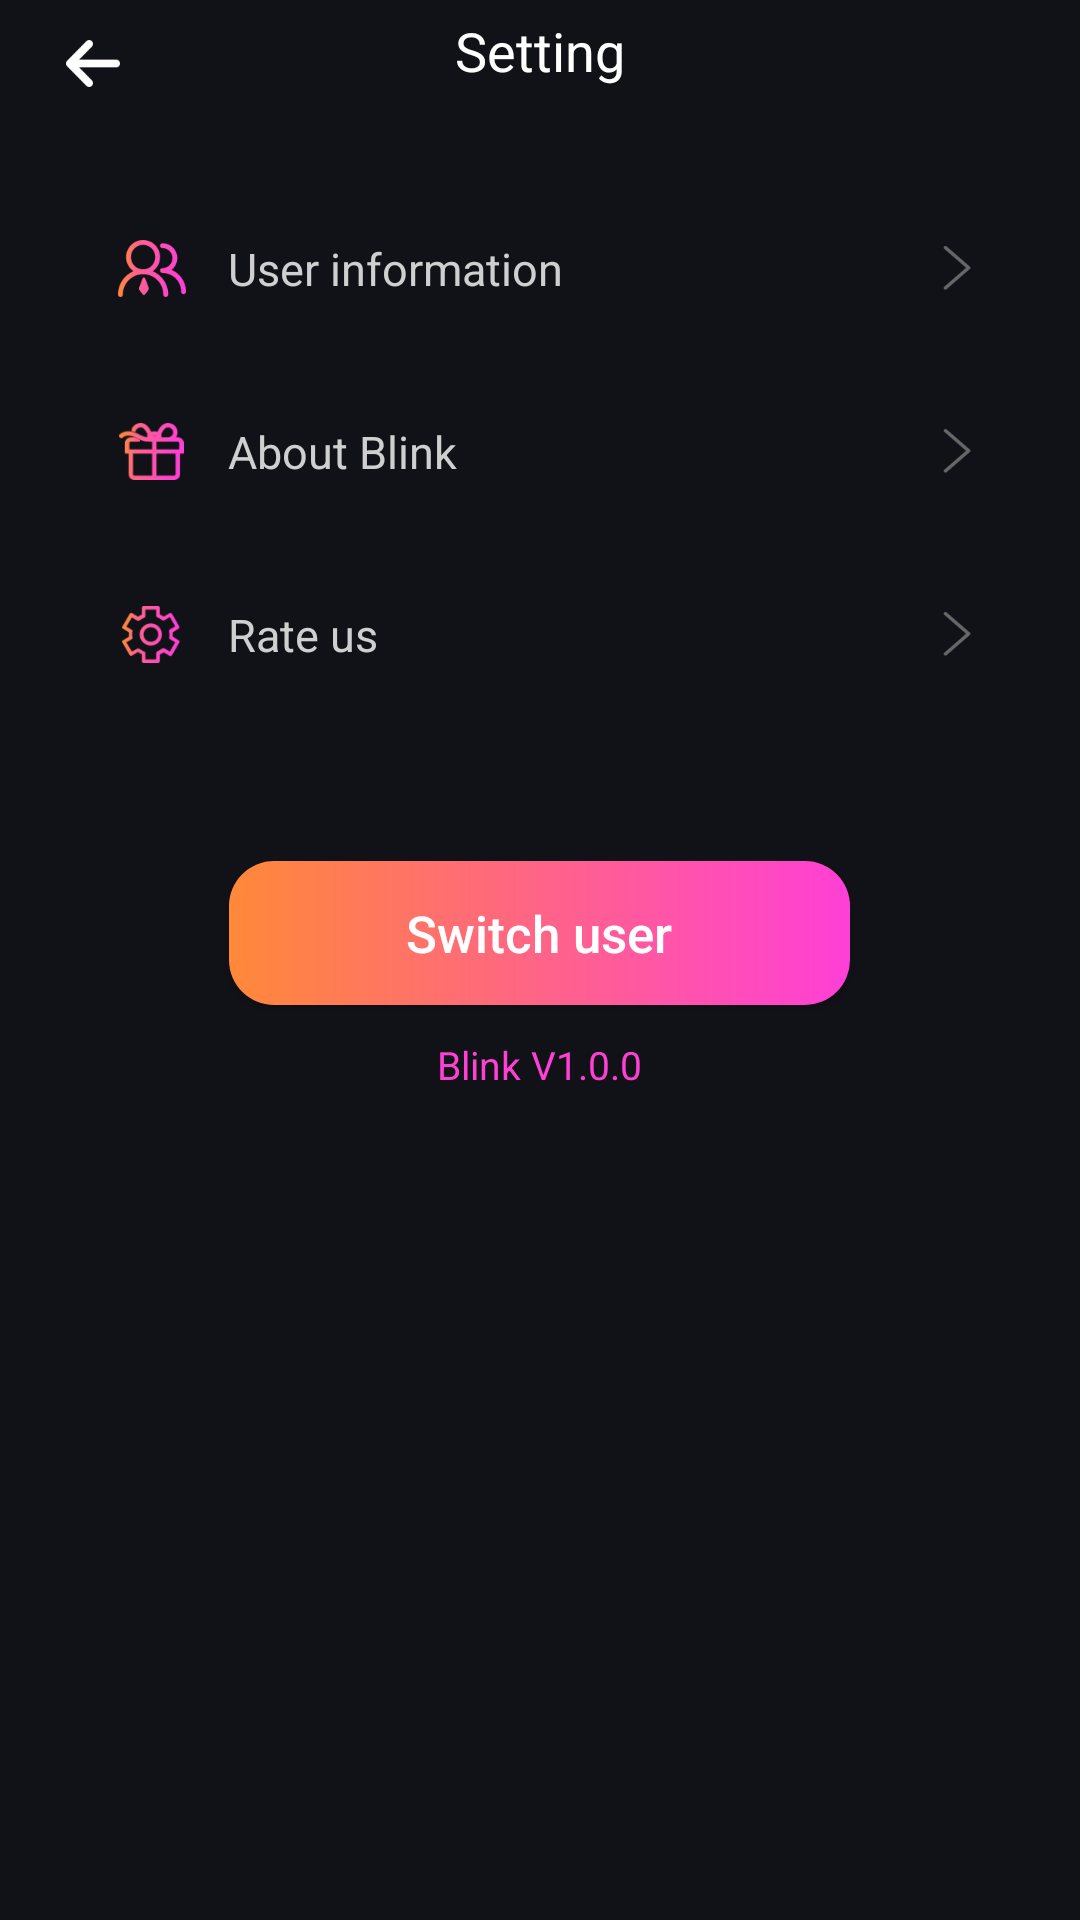

Point at icon controls on the screen. Image size 1080 x 1920, points as (x=x, y=y).
back up: (x=93, y=63)
forward mine: (x=957, y=268), (x=957, y=451), (x=957, y=634)
gifts mine: (x=151, y=451)
setting mine: (x=151, y=634)
visitors mine: (x=152, y=268)
